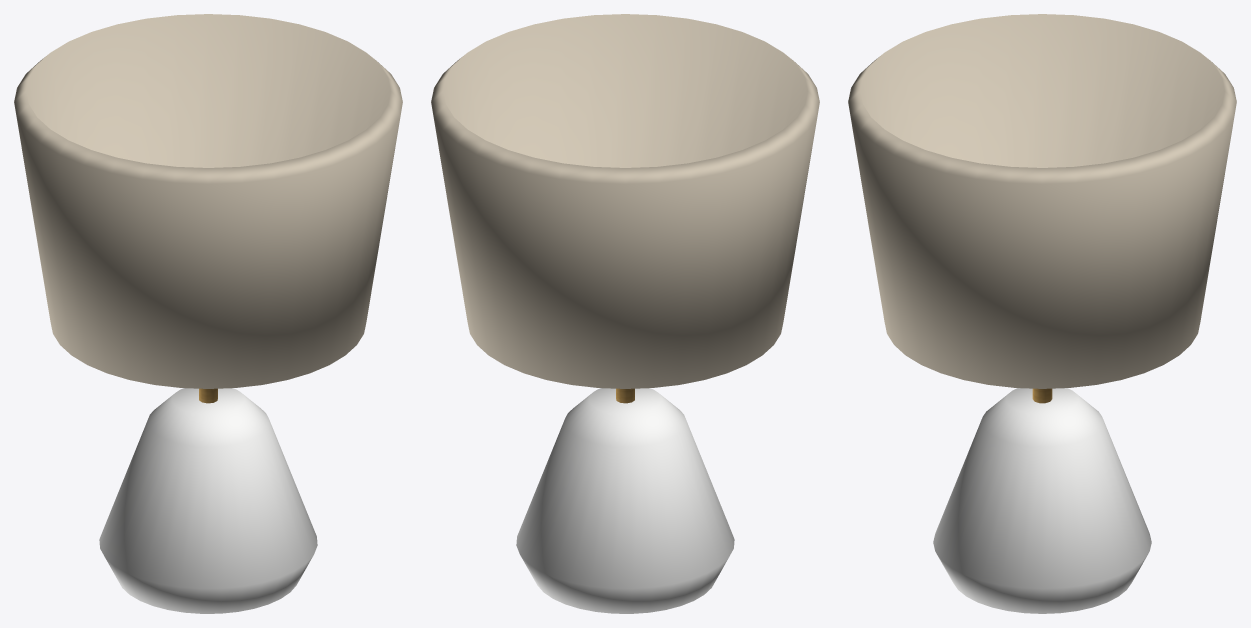
Rendered from master_lamp_a.glb.
3 views of the same model, side by side, from view 1: azimuth 30°, elevation 25°; view 2: azimuth 150°, elevation 25°; view 3: azimuth 270°, elevation 25° (orthographic).
Visible parts, largest first — view 1: master_lamp_a; view 2: master_lamp_a; view 3: master_lamp_a.
Boxes of the visible parts, box(x1,y1,x2,y2) form: master_lamp_a: box(14, 14, 402, 613); master_lamp_a: box(431, 14, 819, 613); master_lamp_a: box(848, 14, 1236, 613).
Bounding box in the file's own units: 0.32 × 0.44 × 0.32.
Materials: 4 (1 with a texture image).
